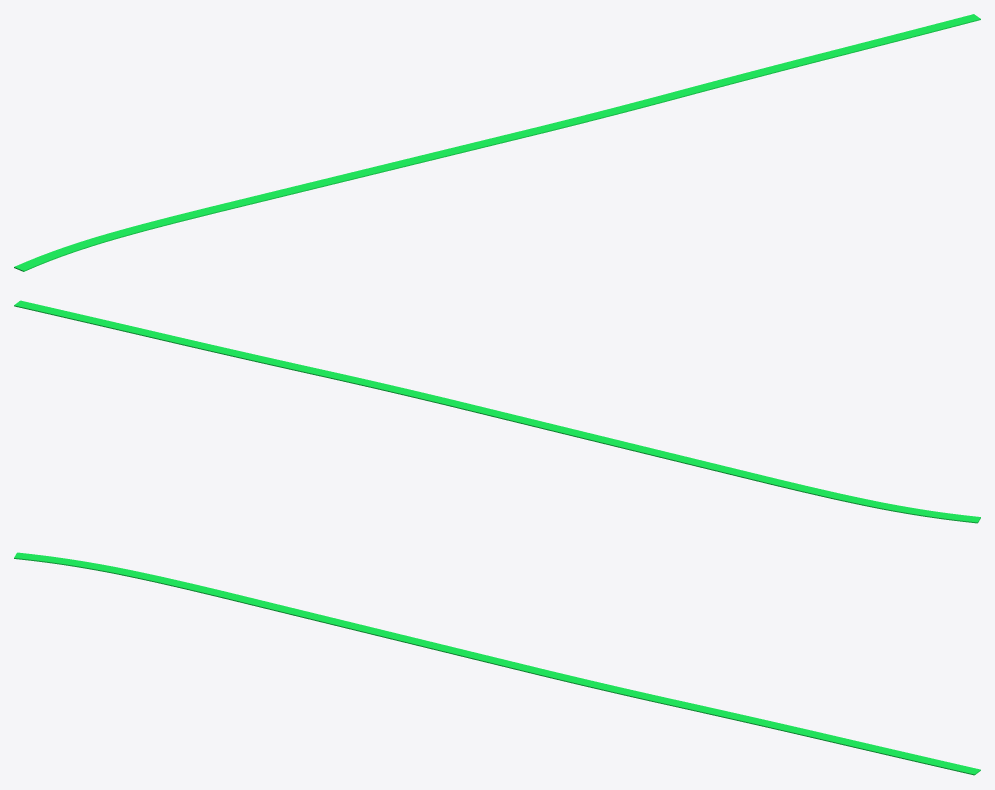
File: SuzukaDrs.glb
3 renders of one model, top to bottom at view 1: azimuth 30°, elevation 25°; view 2: azimuth 150°, elevation 25°; view 3: azimuth 330°, elevation 25°, orthographic. The views are drawn at different scales.
Visible parts, largest first — view 1: DrsStrip_1; view 2: DrsStrip_1; view 3: DrsStrip_1.
Part boxes in pixels (x1=…): DrsStrip_1: x1=14, y1=14, x2=980, y2=271; DrsStrip_1: x1=14, y1=300, x2=980, y2=523; DrsStrip_1: x1=14, y1=552, x2=980, y2=775.
Size of the model in its own units: 5.82 by 0.006 by 0.2643.
